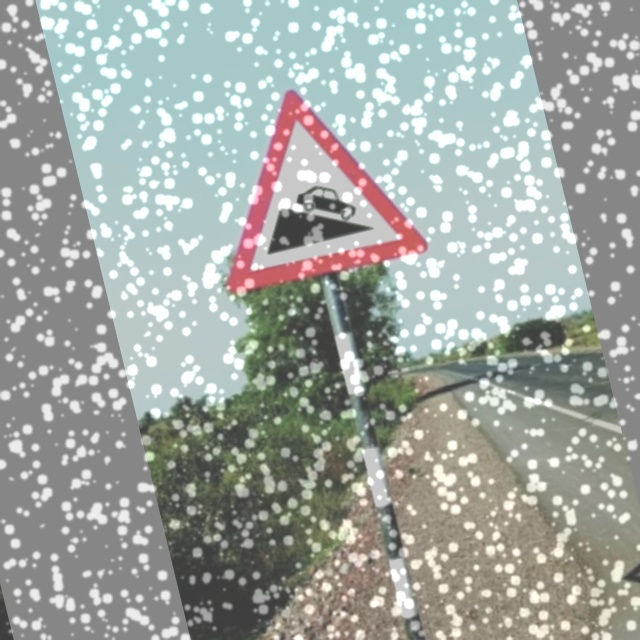Steep_Descent: (197, 64, 432, 296)
